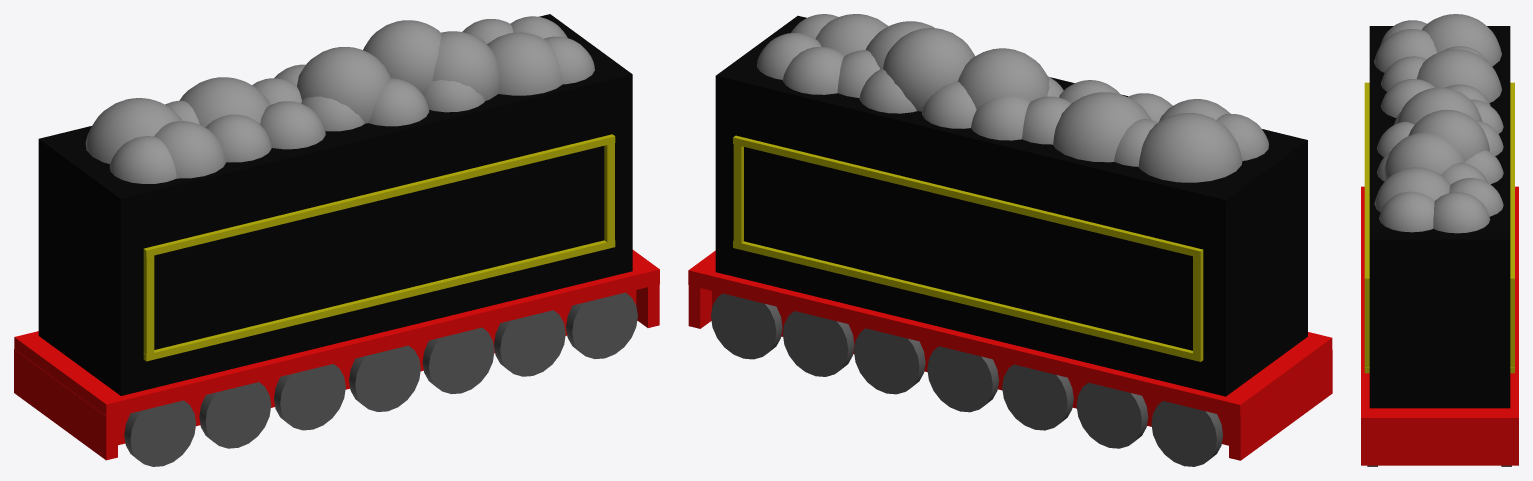
Rendered from FreightCar.fbx.
3 renders of one model, left to right at view 1: azimuth 30°, elevation 25°; view 2: azimuth 150°, elevation 25°; view 3: azimuth 270°, elevation 25°, orthographic. The views are drawn at different scales.
Parts seen in each view (by area): view 1: pCube86; view 2: pCube86; view 3: pCube86.
Part boxes in pixels (x1,y1,x2,y2): pCube86: [14, 14, 659, 466]; pCube86: [688, 14, 1332, 466]; pCube86: [1361, 14, 1518, 466].
Size of the model in its own units: 16.31 by 9.46 by 4.7.
